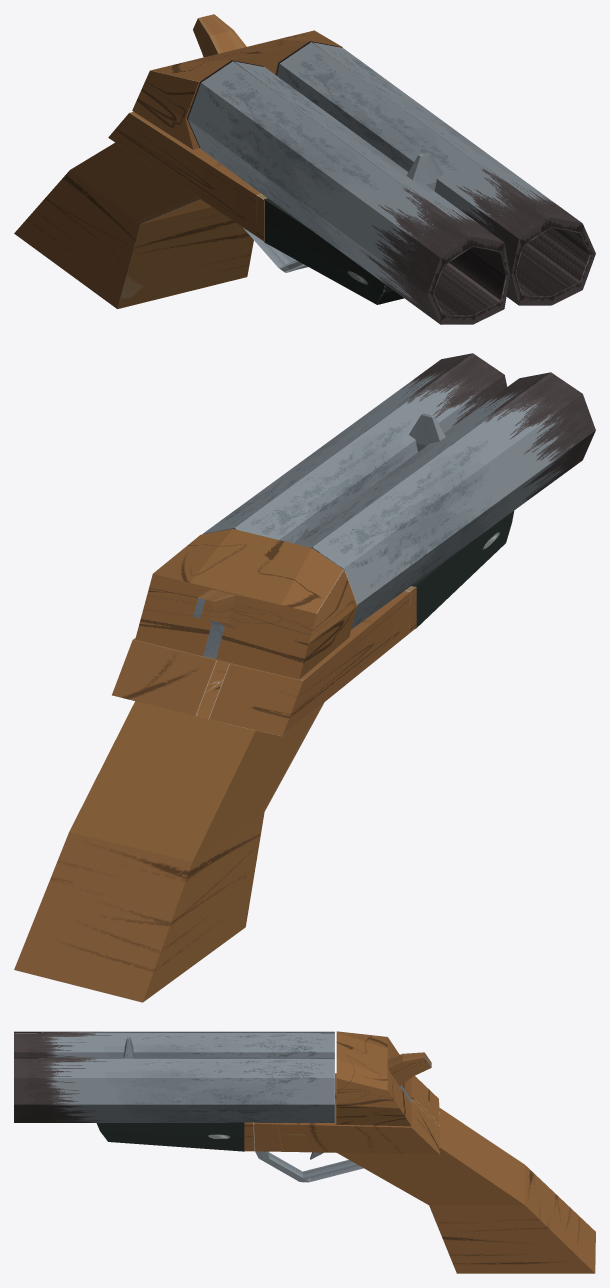
The model's file is shotgun.fbx.
3 views of the same model, one above another, from view 1: azimuth 30°, elevation 25°; view 2: azimuth 150°, elevation 25°; view 3: azimuth 270°, elevation 25° (orthographic). The views are drawn at different scales.
Parts seen in each view (by area): view 1: Weapon; view 2: Weapon; view 3: Weapon.
Boxes of the visible parts, x1,y1,x2,y2 form: Weapon: (14,14,595,324); Weapon: (14,353,595,1002); Weapon: (14,1031,595,1273).
Bounding box in the file's own units: 12.63 × 55.3 × 22.42.
